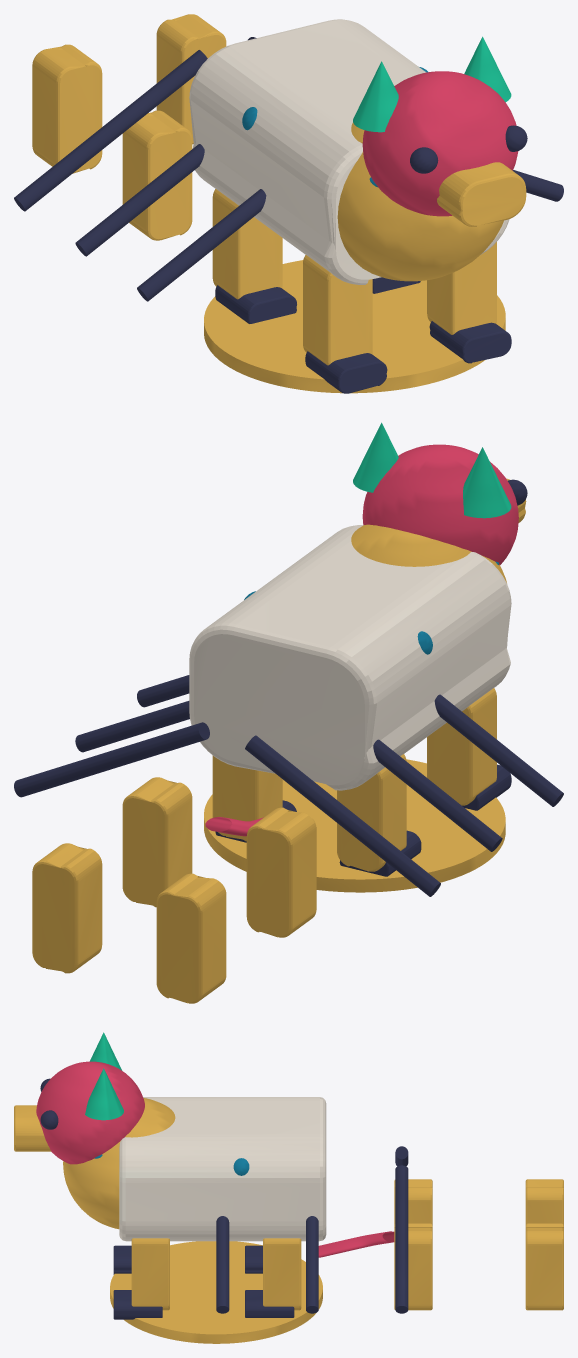
File: 1293_爬行动物图鉴_蛛尾拟角蝰.glb
3 views of the same model, one above another, from view 1: azimuth 30°, elevation 25°; view 2: azimuth 150°, elevation 25°; view 3: azimuth 270°, elevation 25° (orthographic). The views are drawn at different scales.
Visible parts, largest first — view 1: card_1293; view 2: card_1293; view 3: card_1293.
Part boxes in pixels (x1,y1,x2,y2): card_1293: (14,14,563,393); card_1293: (14,422,563,1003); card_1293: (14,1032,563,1343).
Bounding box in the file's own units: 1.31 × 1 × 2.02.
